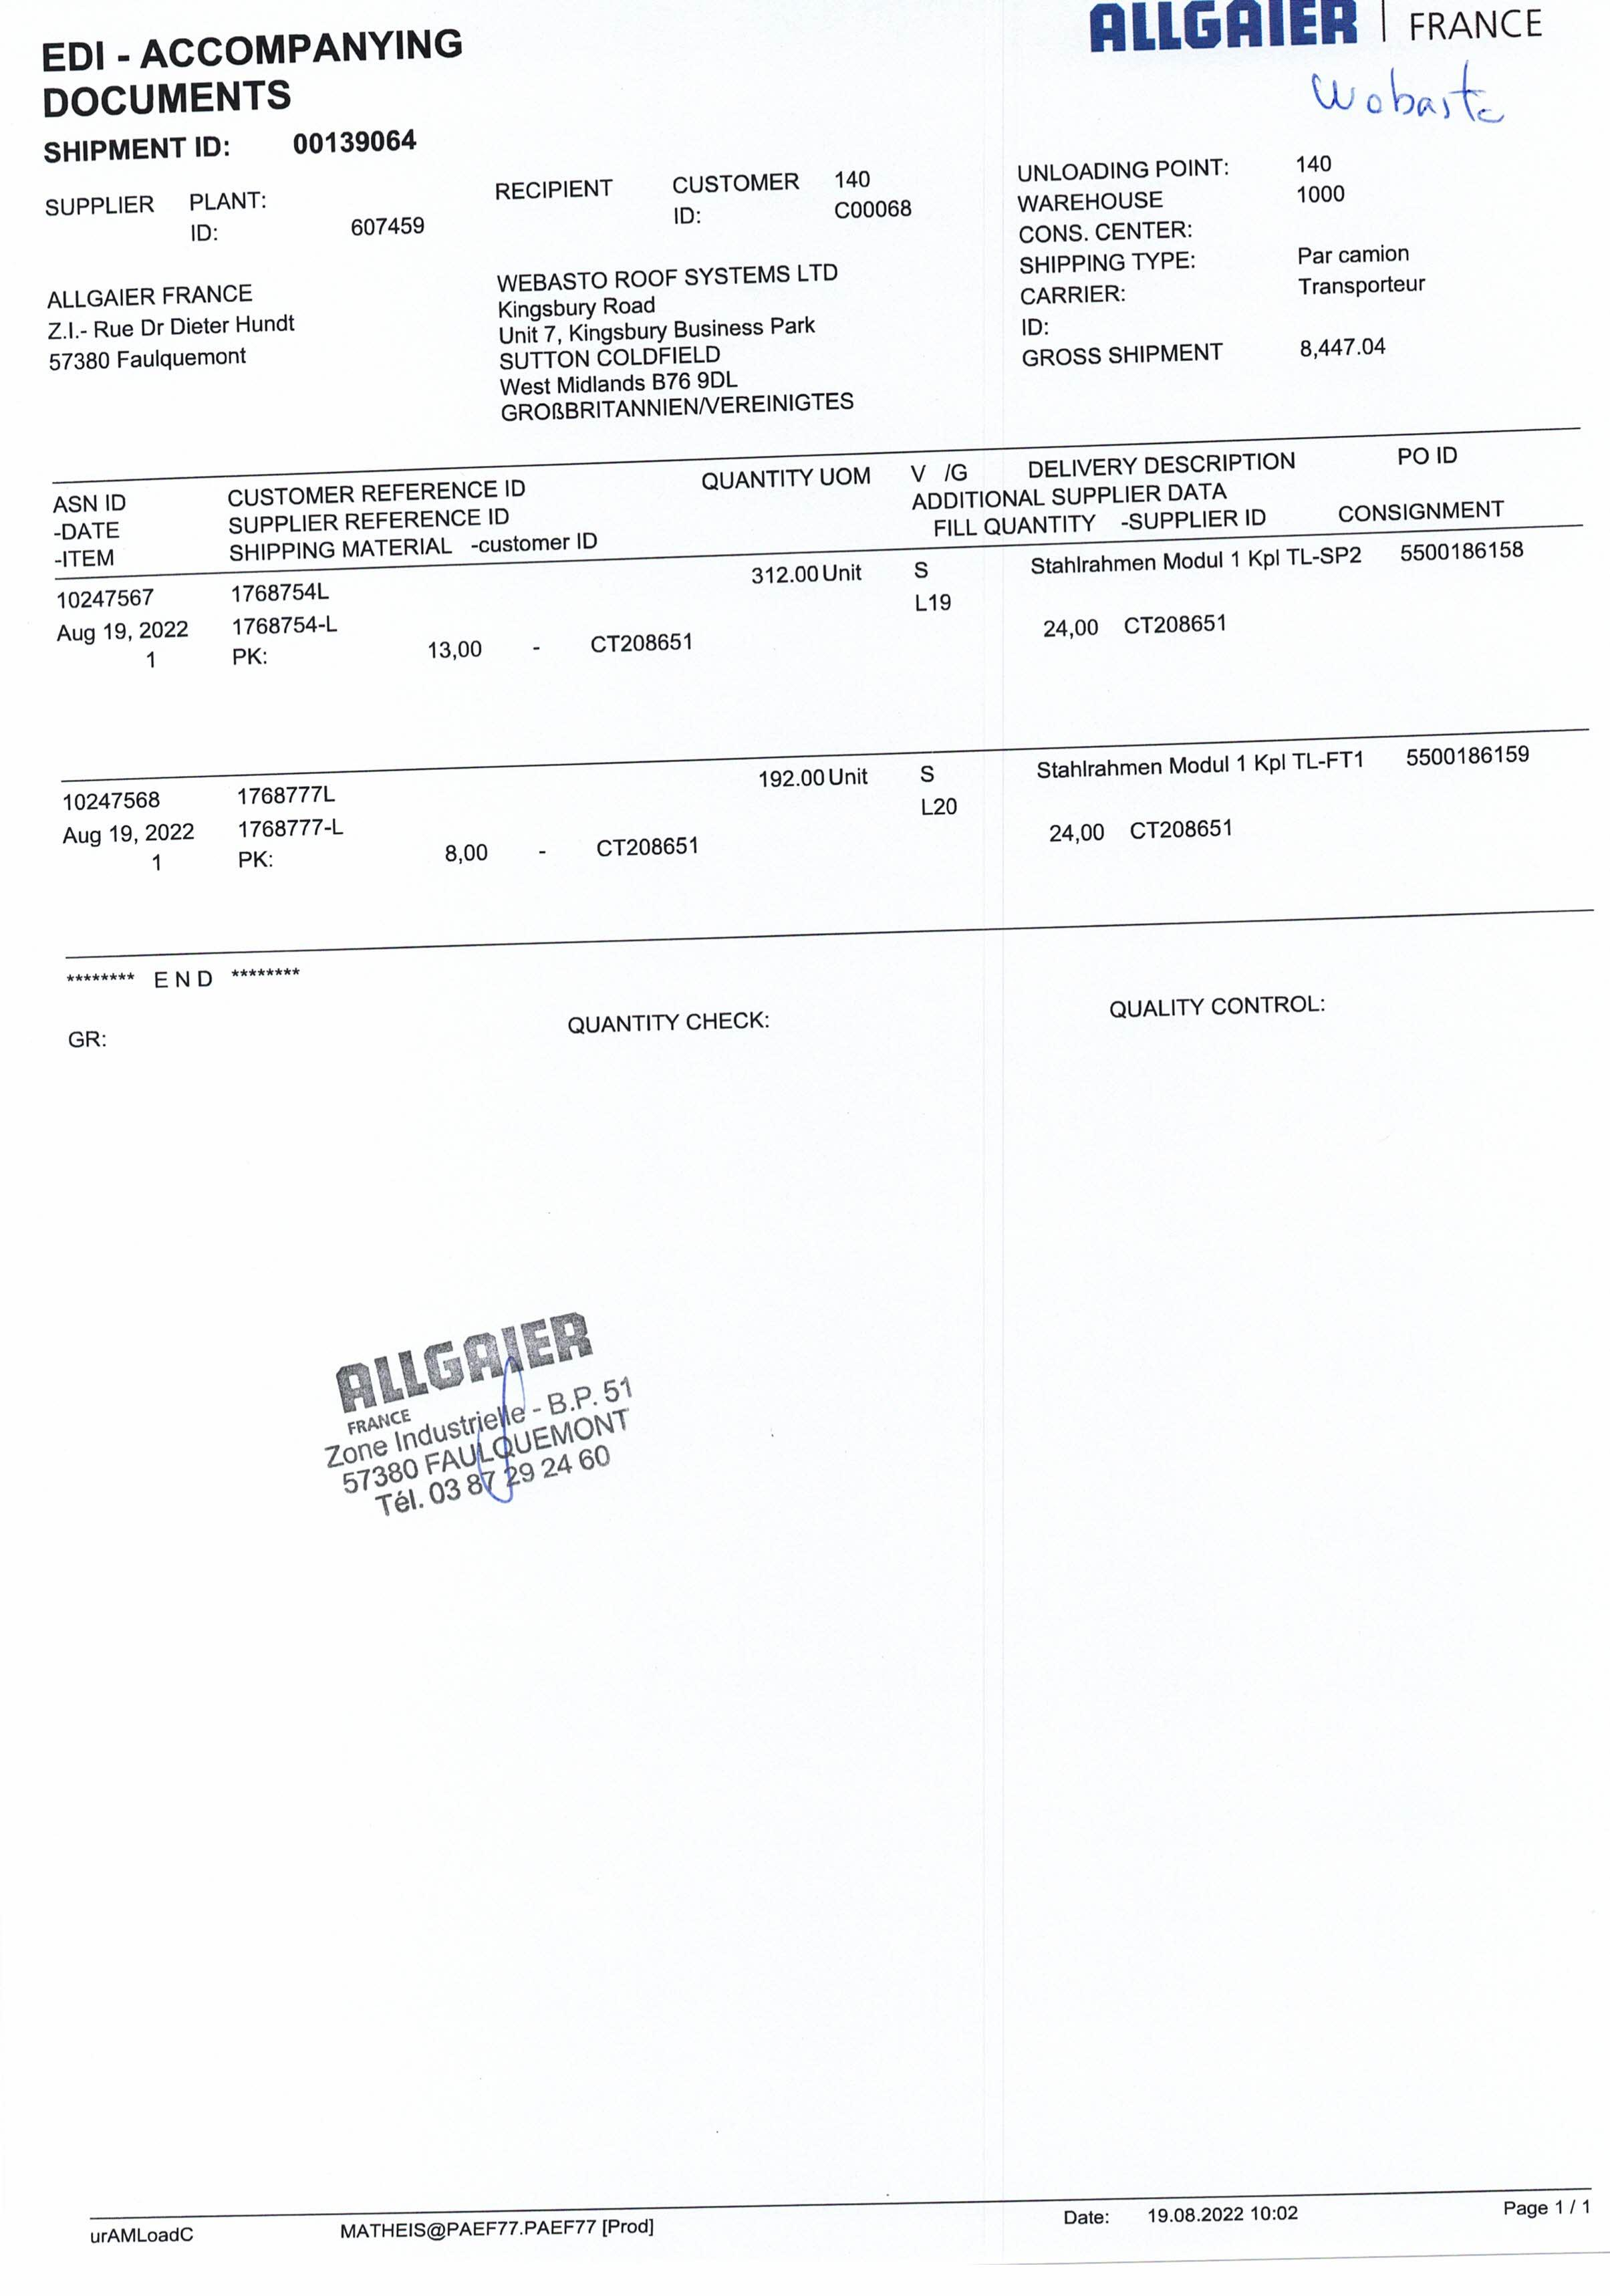B_Paragraph: (1008, 147, 1436, 384), (310, 1298, 661, 1523), (37, 162, 944, 241), (487, 256, 869, 422), (37, 277, 302, 379), (330, 2200, 658, 2261), (553, 989, 774, 1045), (1104, 981, 1336, 1029), (1050, 2195, 1319, 2237), (84, 2212, 209, 2261), (54, 996, 134, 1066), (1497, 2184, 1607, 2224), (281, 131, 422, 157), (145, 960, 222, 996)
B_SubTitle: (45, 133, 235, 166)
B_Table: (37, 427, 1605, 954)
B_Title: (24, 21, 476, 120), (1074, 0, 1570, 77)
